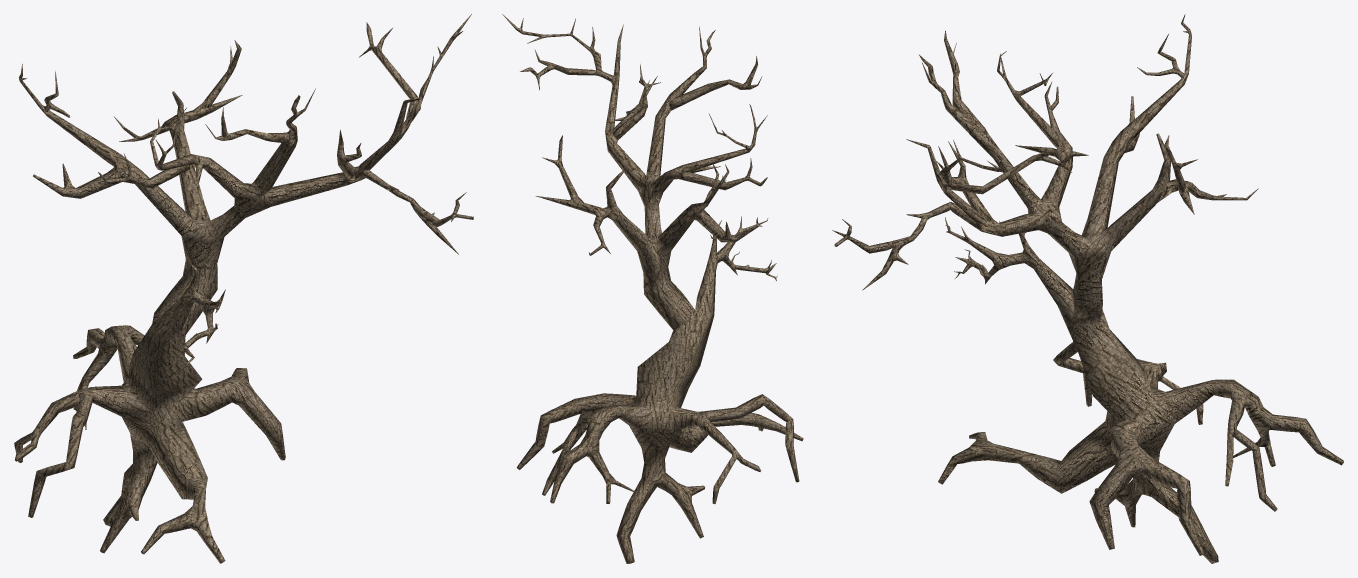
File: dead_tree_5.fbx
3 views of the same model, side by side, from view 1: azimuth 30°, elevation 25°; view 2: azimuth 150°, elevation 25°; view 3: azimuth 270°, elevation 25° (orthographic). The views are drawn at different scales.
Visible parts, largest first — view 1: dead_tree_5; view 2: dead_tree_5; view 3: dead_tree_5.
Part boxes in pixels (x1=…): dead_tree_5: x1=14, y1=14, x2=473, y2=563; dead_tree_5: x1=502, y1=14, x2=803, y2=563; dead_tree_5: x1=832, y1=14, x2=1343, y2=563.
Bounding box in the file's own units: 568 × 716 × 625.
Materials: 1 (1 with a texture image).
